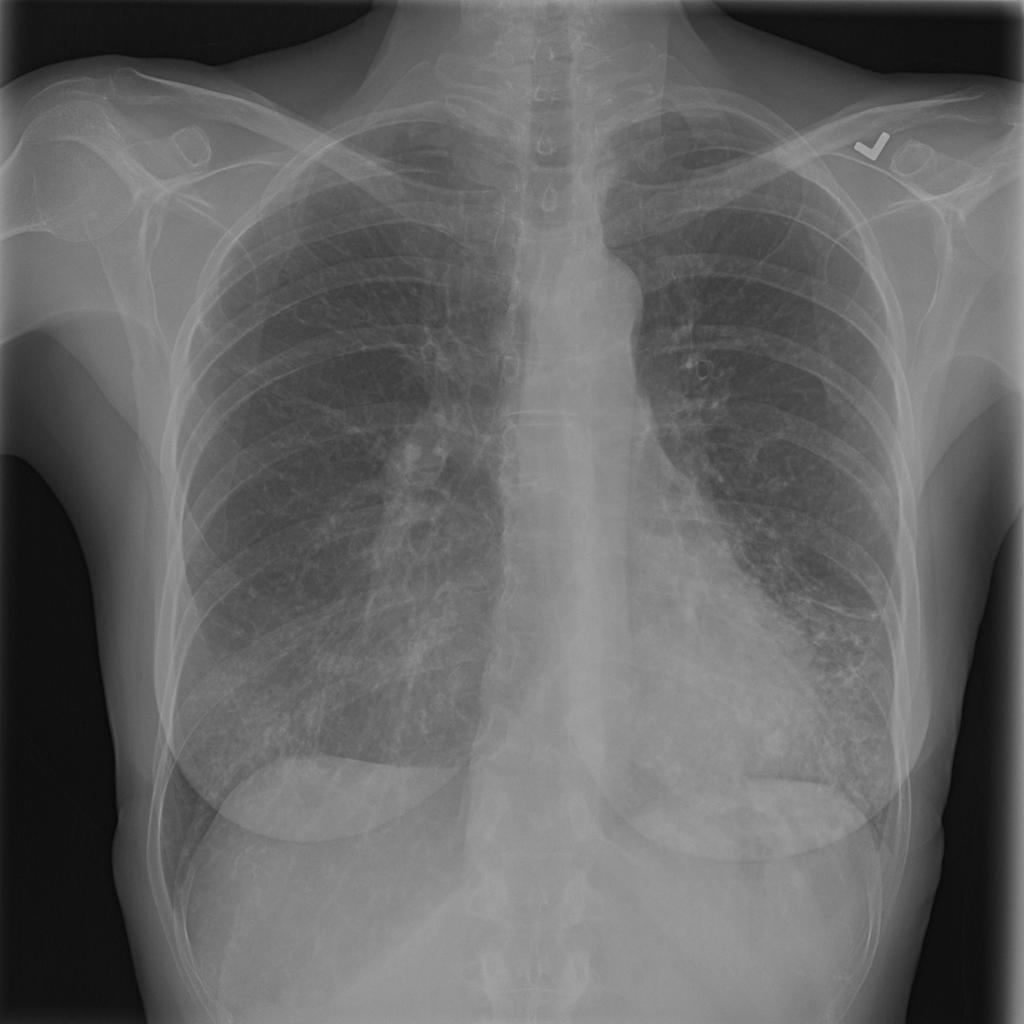nodule: (740, 706, 810, 778)
